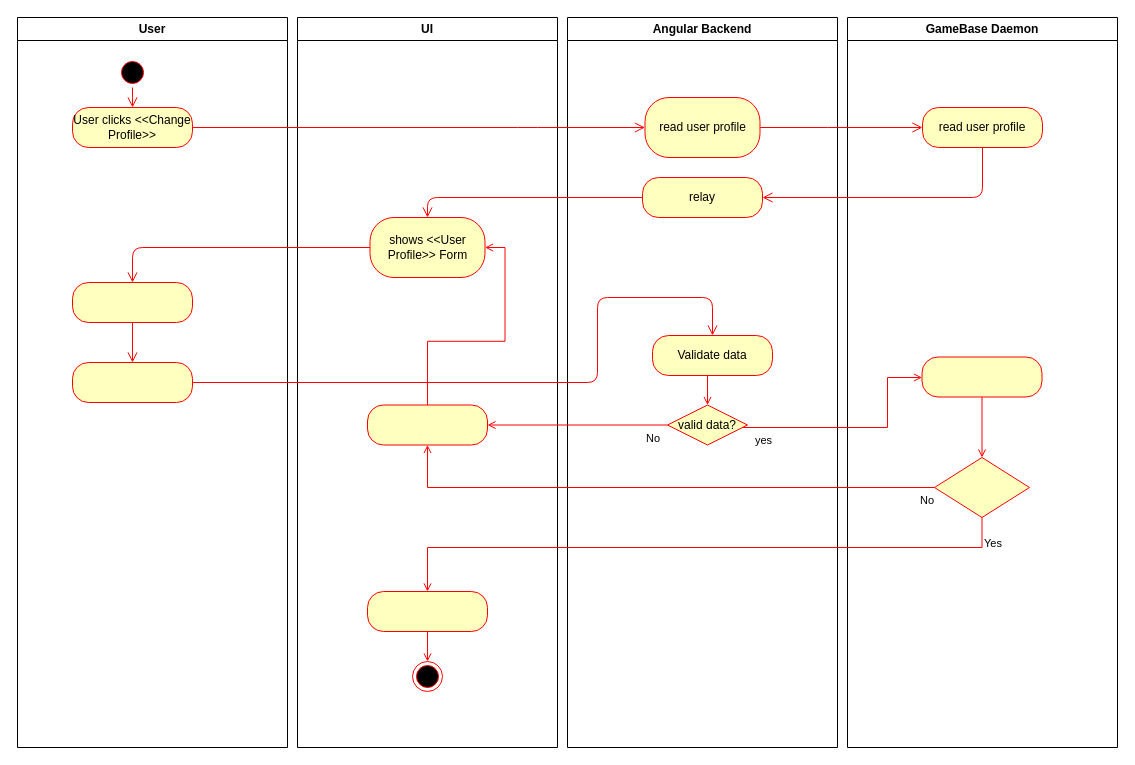
Image size: 1135x765. Some labels were removed from this diagram. The centre of each missing label's shape, as x and y in pixels:
"show error message" goes at point (427, 424).
"show success message" goes at point (427, 611).
"update successful?" goes at point (982, 487).
"update user profile" goes at point (981, 376).
"User clicks <<Submit>> button" goes at point (132, 382).
"User enters the required information" goes at point (132, 302).
